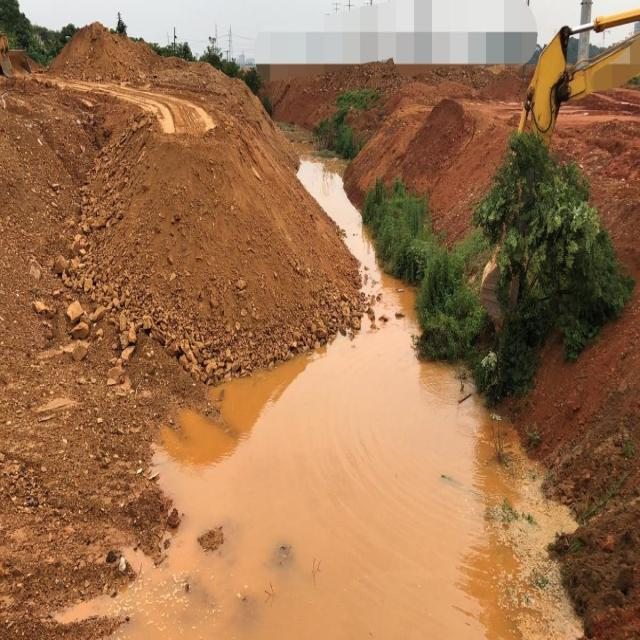excavator: (504, 5, 637, 201)
